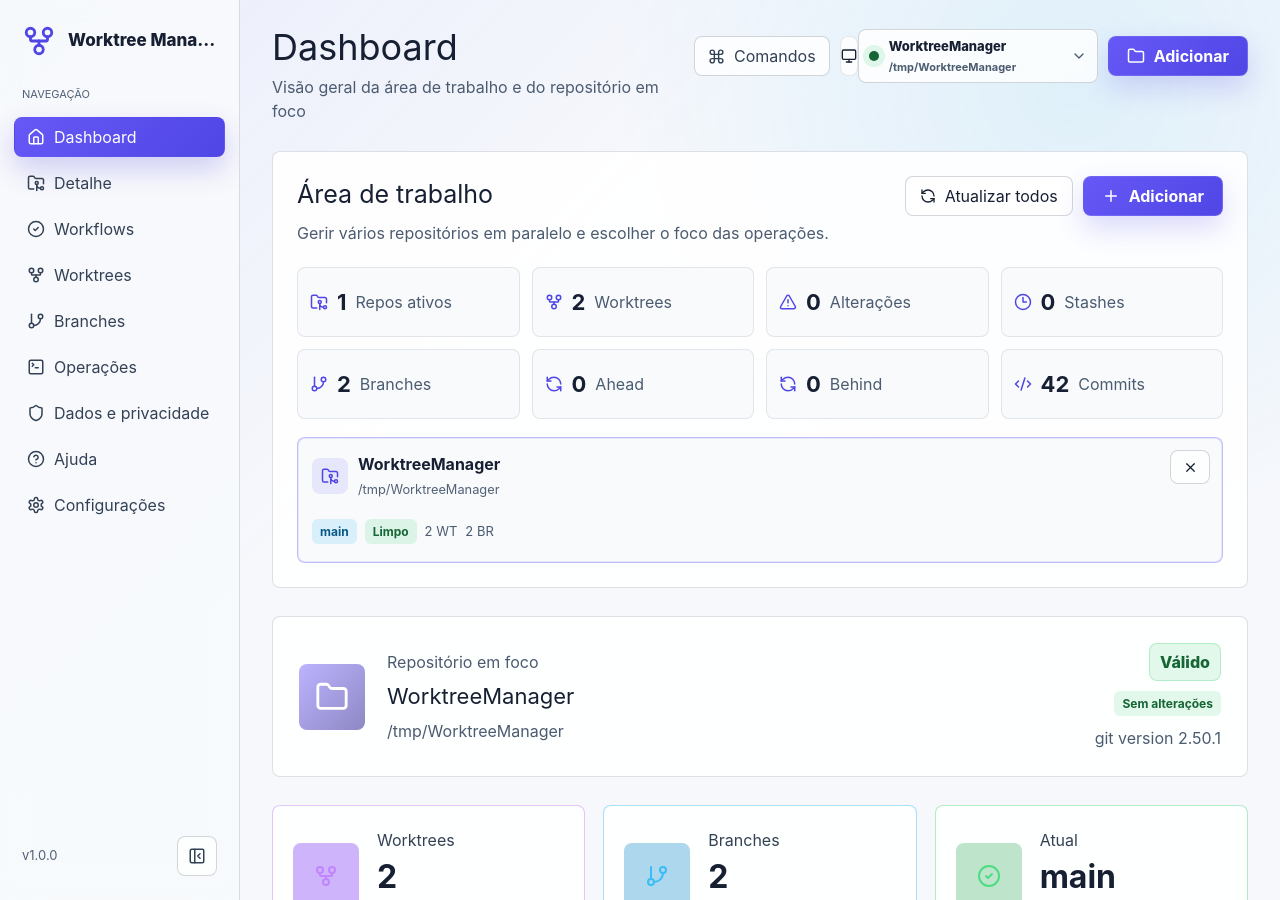
Test: App › opens a guided workflow and continues into the create worktree action
The width and height of the screenshot is (1280, 900).
Click the button "Workflows" at (120, 228), box [14, 208, 225, 248]
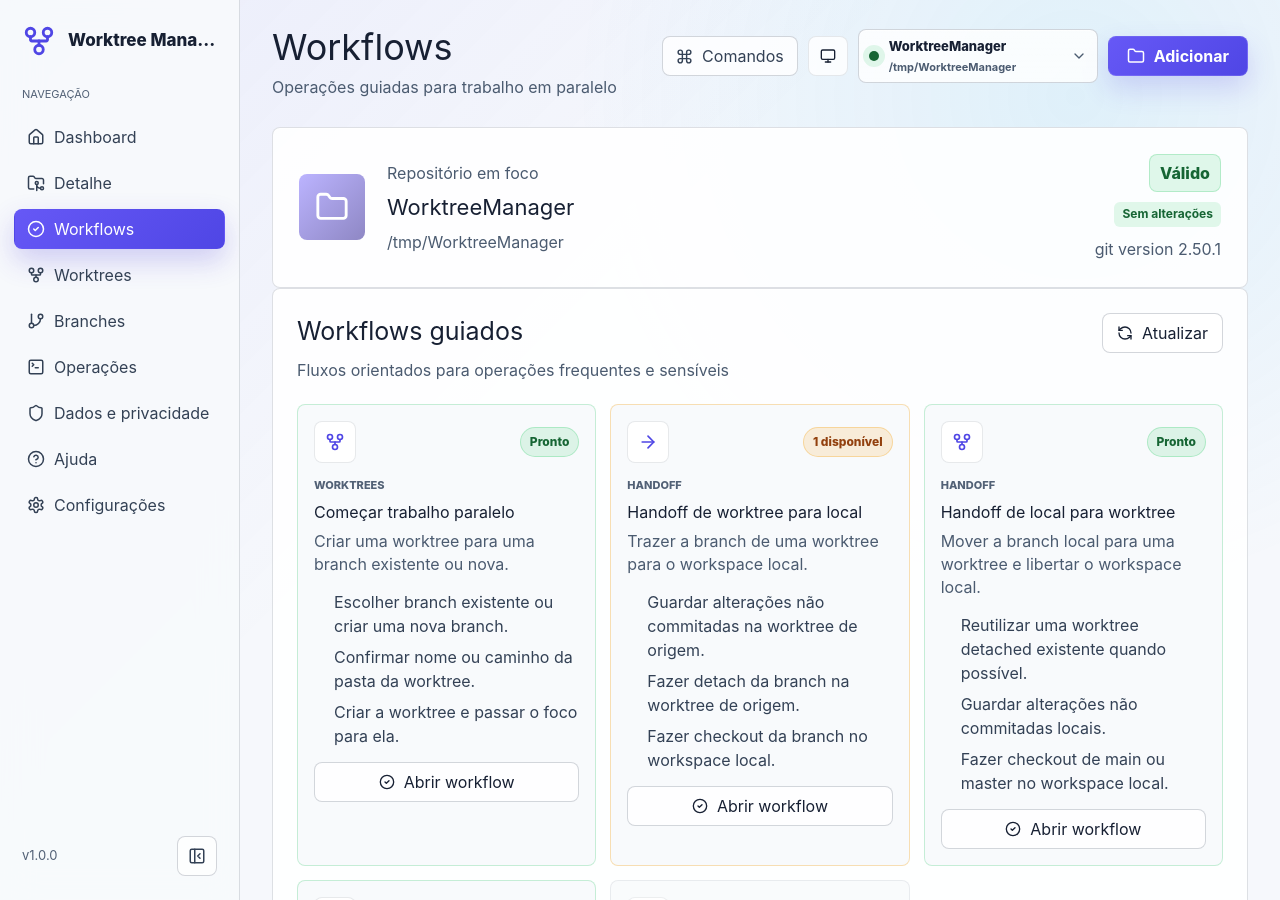
Now the heading "Começar trabalho paralelo" is shown, box [314, 502, 515, 522]
Click the button "Abrir workflow" below "Começar trabalho paralelo" at (447, 782), box [314, 762, 579, 802]
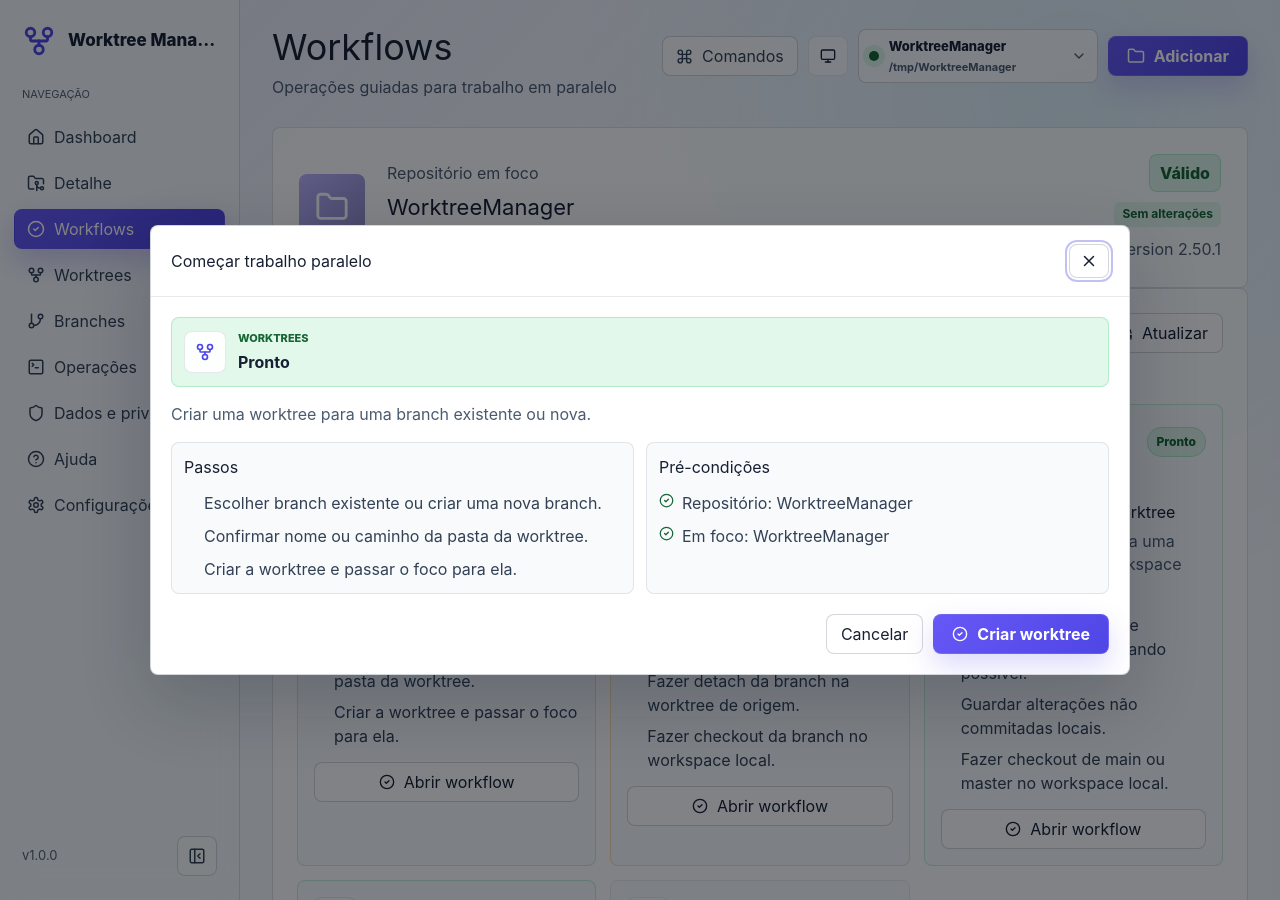
Now the dialog "Começar trabalho paralelo" is shown, box [150, 225, 1130, 675]
Click the button "Criar worktree" at (1021, 634), box [933, 614, 1109, 654]
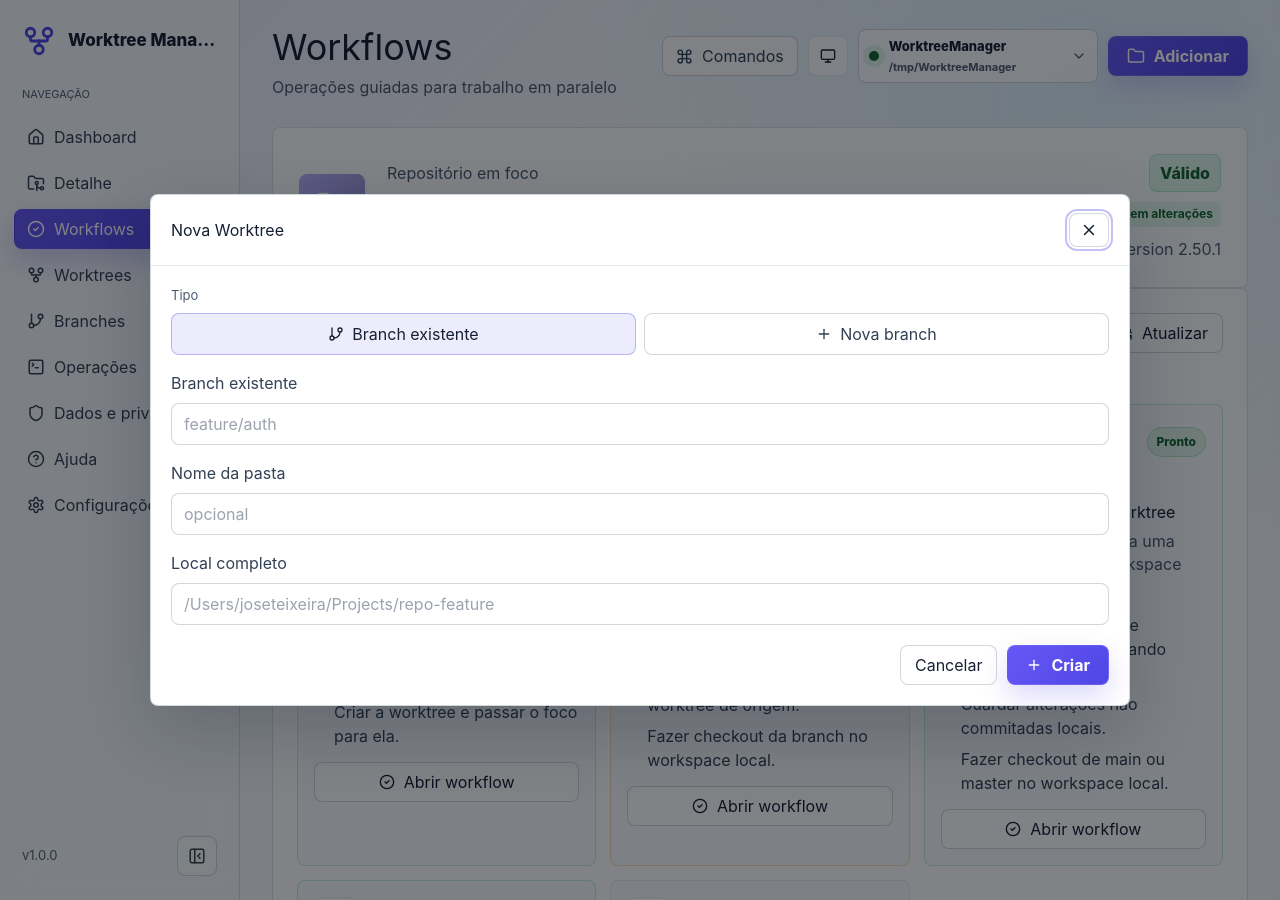
Now the dialog "Nova Worktree" is shown, box [150, 194, 1130, 706]
